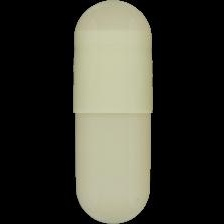54868-5957: (0, 0, 224, 224)
